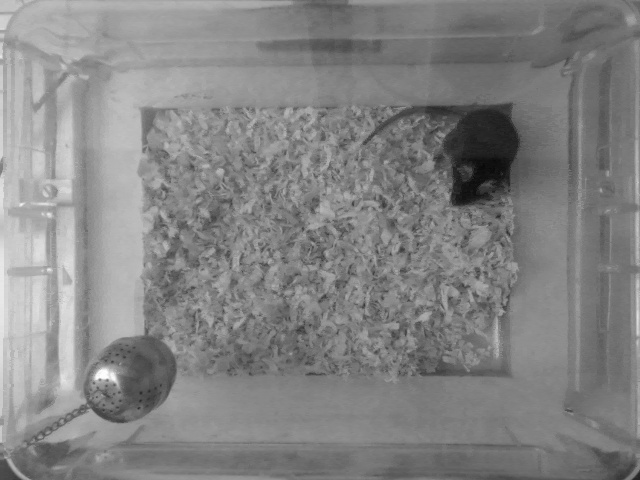mice: (363, 94, 521, 207)
